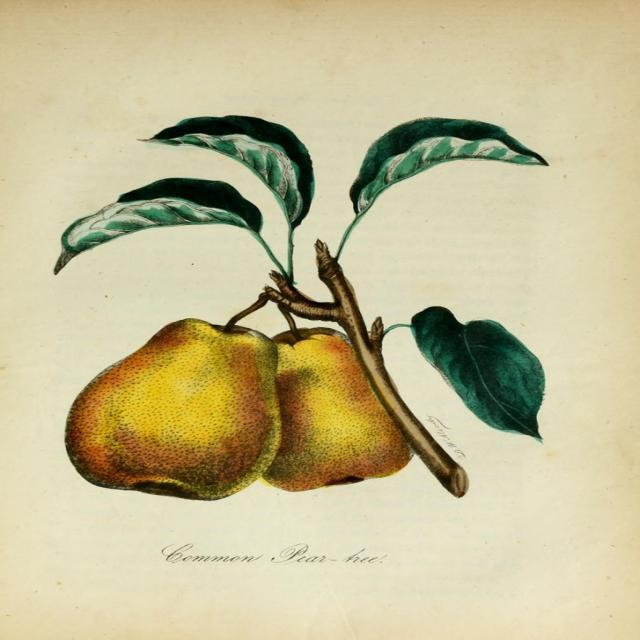Pear: (64, 318, 286, 500), (255, 327, 419, 491)
